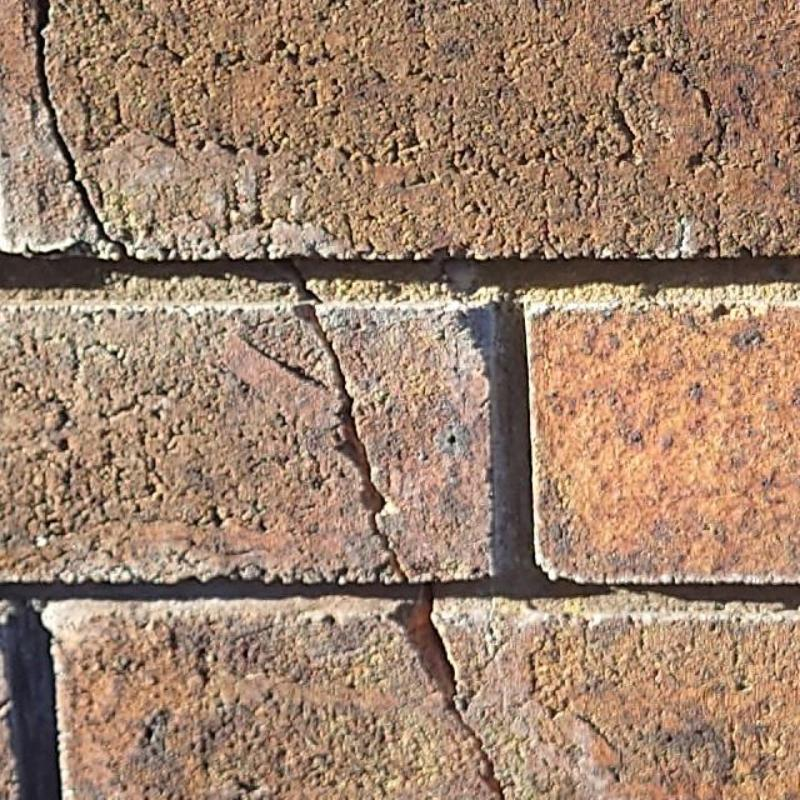pothole: (27, 0, 138, 262), (308, 305, 410, 585), (428, 595, 502, 800), (286, 260, 324, 304)
